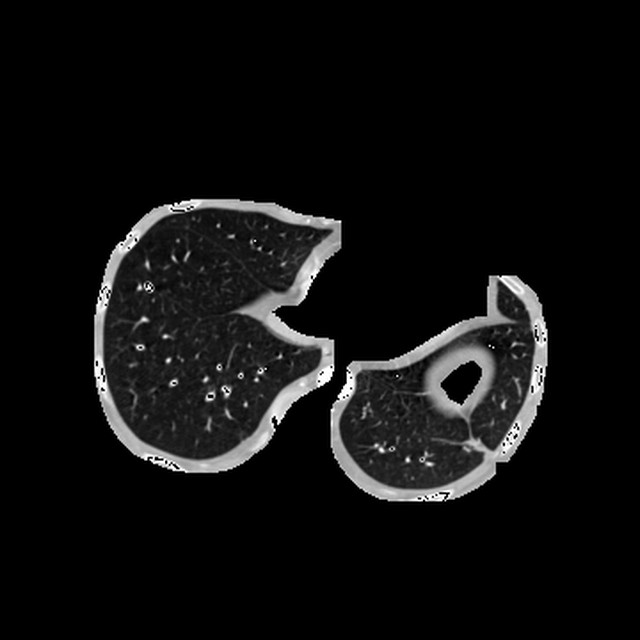PN: (142, 281, 153, 292)
